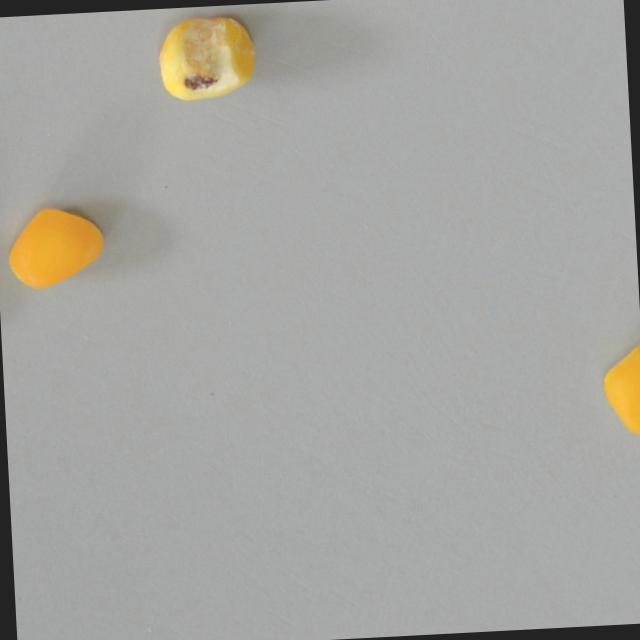dañado: (157, 11, 258, 102)
estandar: (4, 204, 107, 292)
no_canjicado: (599, 337, 640, 437)
